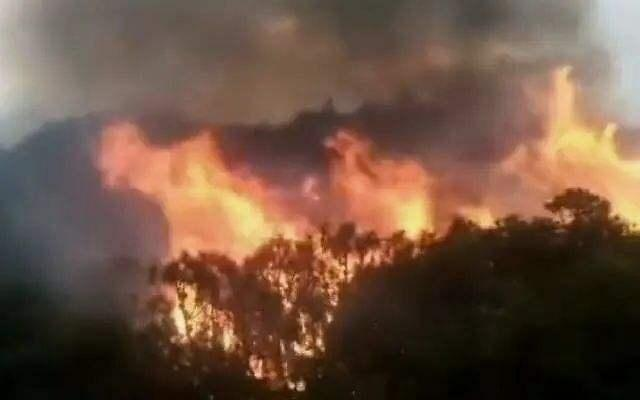fire: (101, 71, 419, 385), (402, 51, 638, 237)
